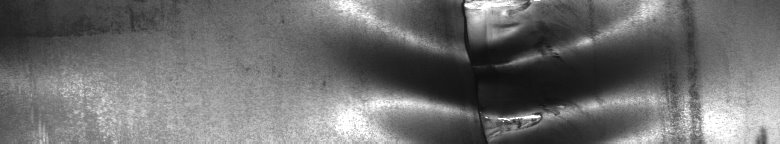ke: (388, 4, 704, 136)
